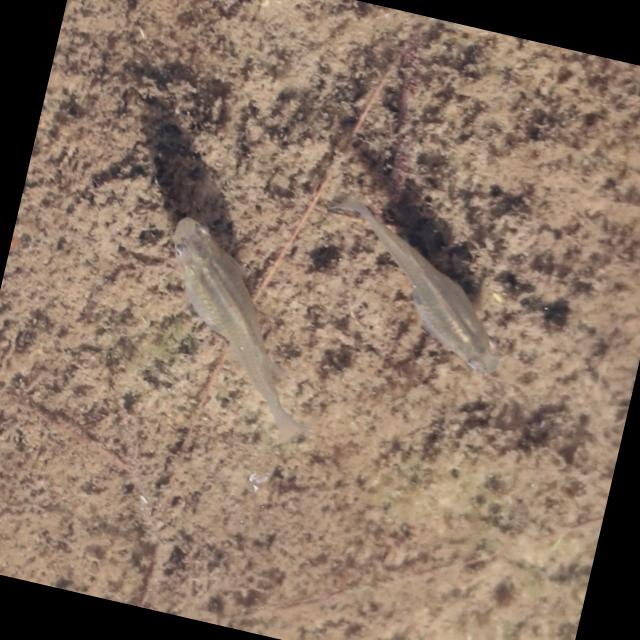Sivrisinek Baligi: (128, 211, 352, 449), (296, 190, 530, 378)
